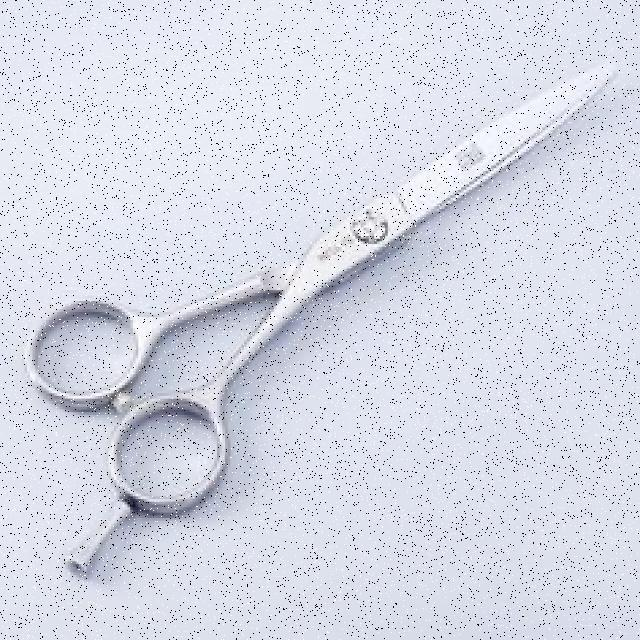scissors: (23, 58, 624, 582)
